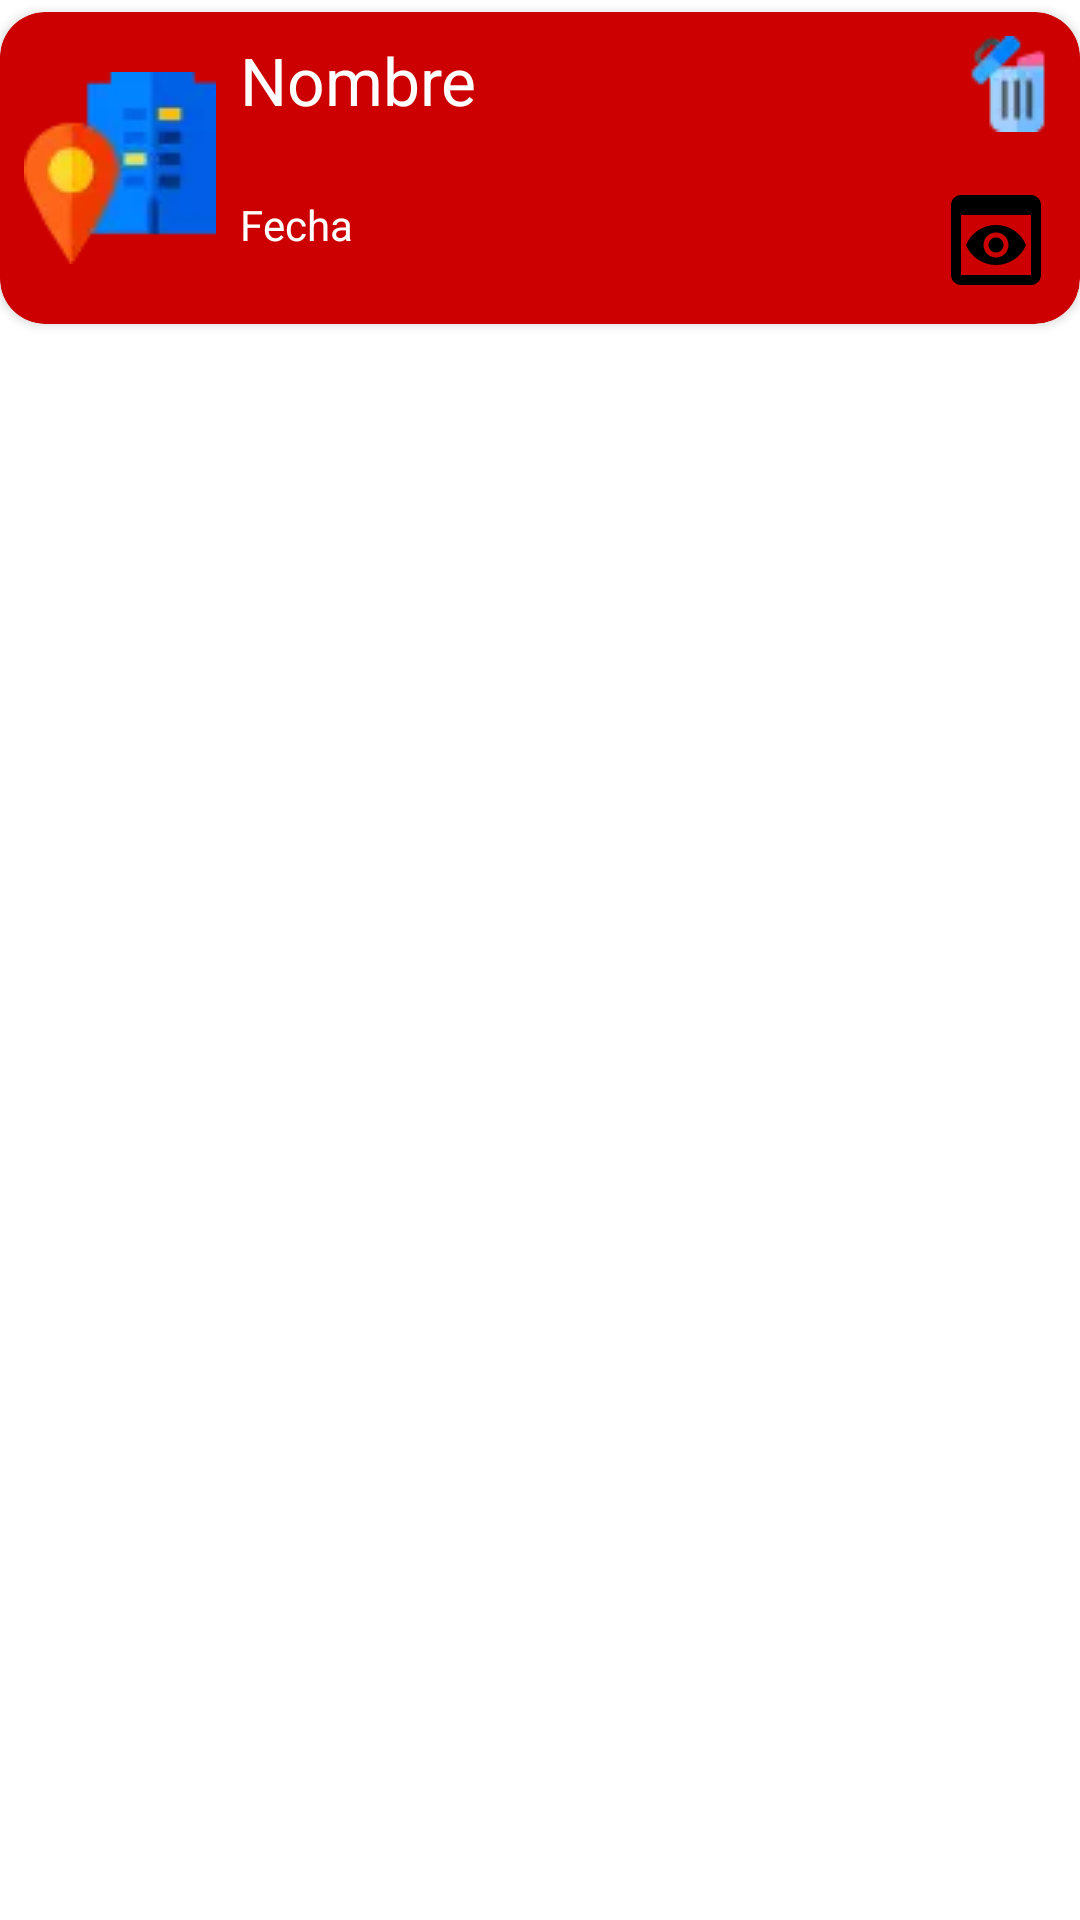

Icons on this 1080×1920 Android screen, each with the point to tap as (x=x, y=y):
eliminar: (x=1008, y=84)
